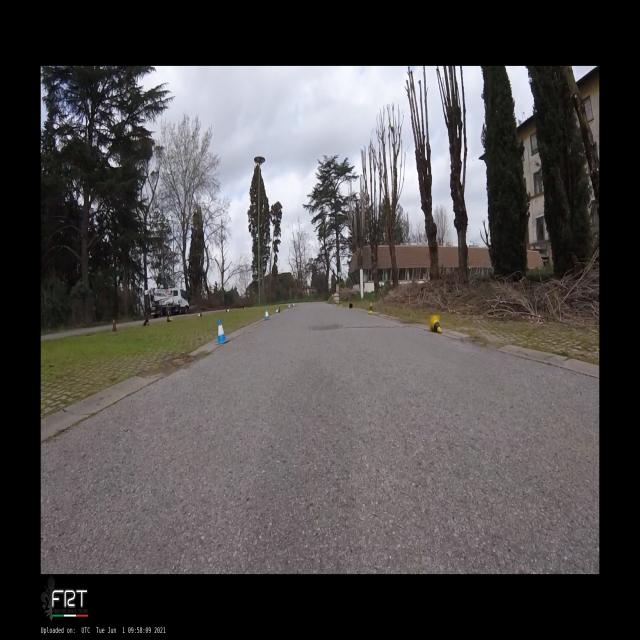blue_cone: (216, 318, 229, 345), (264, 308, 271, 320), (275, 307, 280, 313), (288, 304, 290, 310)
orange_cone: (197, 313, 202, 317), (226, 308, 230, 312), (243, 306, 246, 310)
unknown_cone: (112, 318, 117, 332), (142, 319, 150, 326), (167, 315, 173, 322), (349, 303, 353, 309)
yellow_cone: (429, 314, 442, 334), (368, 302, 373, 314), (340, 300, 342, 307)
